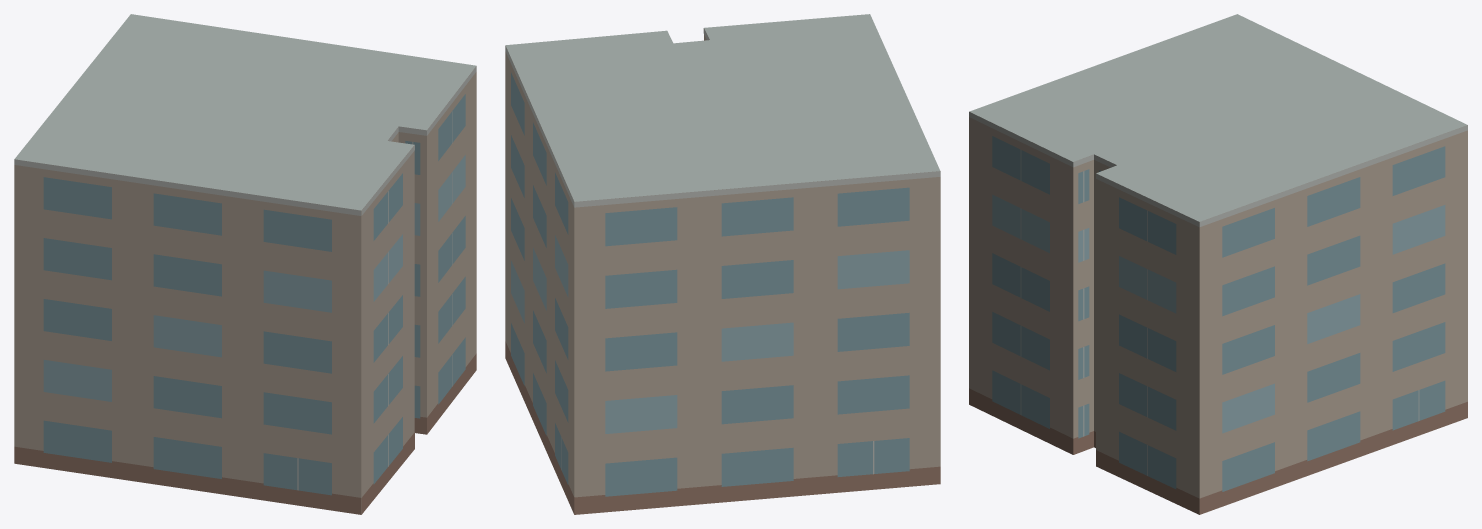
The model's file is survey-upis-32739205.glb.
3 views of the same model, side by side, from view 1: azimuth 30°, elevation 25°; view 2: azimuth 150°, elevation 25°; view 3: azimuth 270°, elevation 25° (orthographic). The views are drawn at different scales.
Visible parts, largest first — view 1: survey-upis-32739205.tmp; view 2: survey-upis-32739205.tmp; view 3: survey-upis-32739205.tmp.
Boxes of the visible parts, box(x1,y1,x2,y2) form: survey-upis-32739205.tmp: box(14, 14, 476, 514); survey-upis-32739205.tmp: box(505, 14, 940, 514); survey-upis-32739205.tmp: box(969, 14, 1467, 514).
Size of the model in its own units: 20.25 by 13.3 by 20.53.
